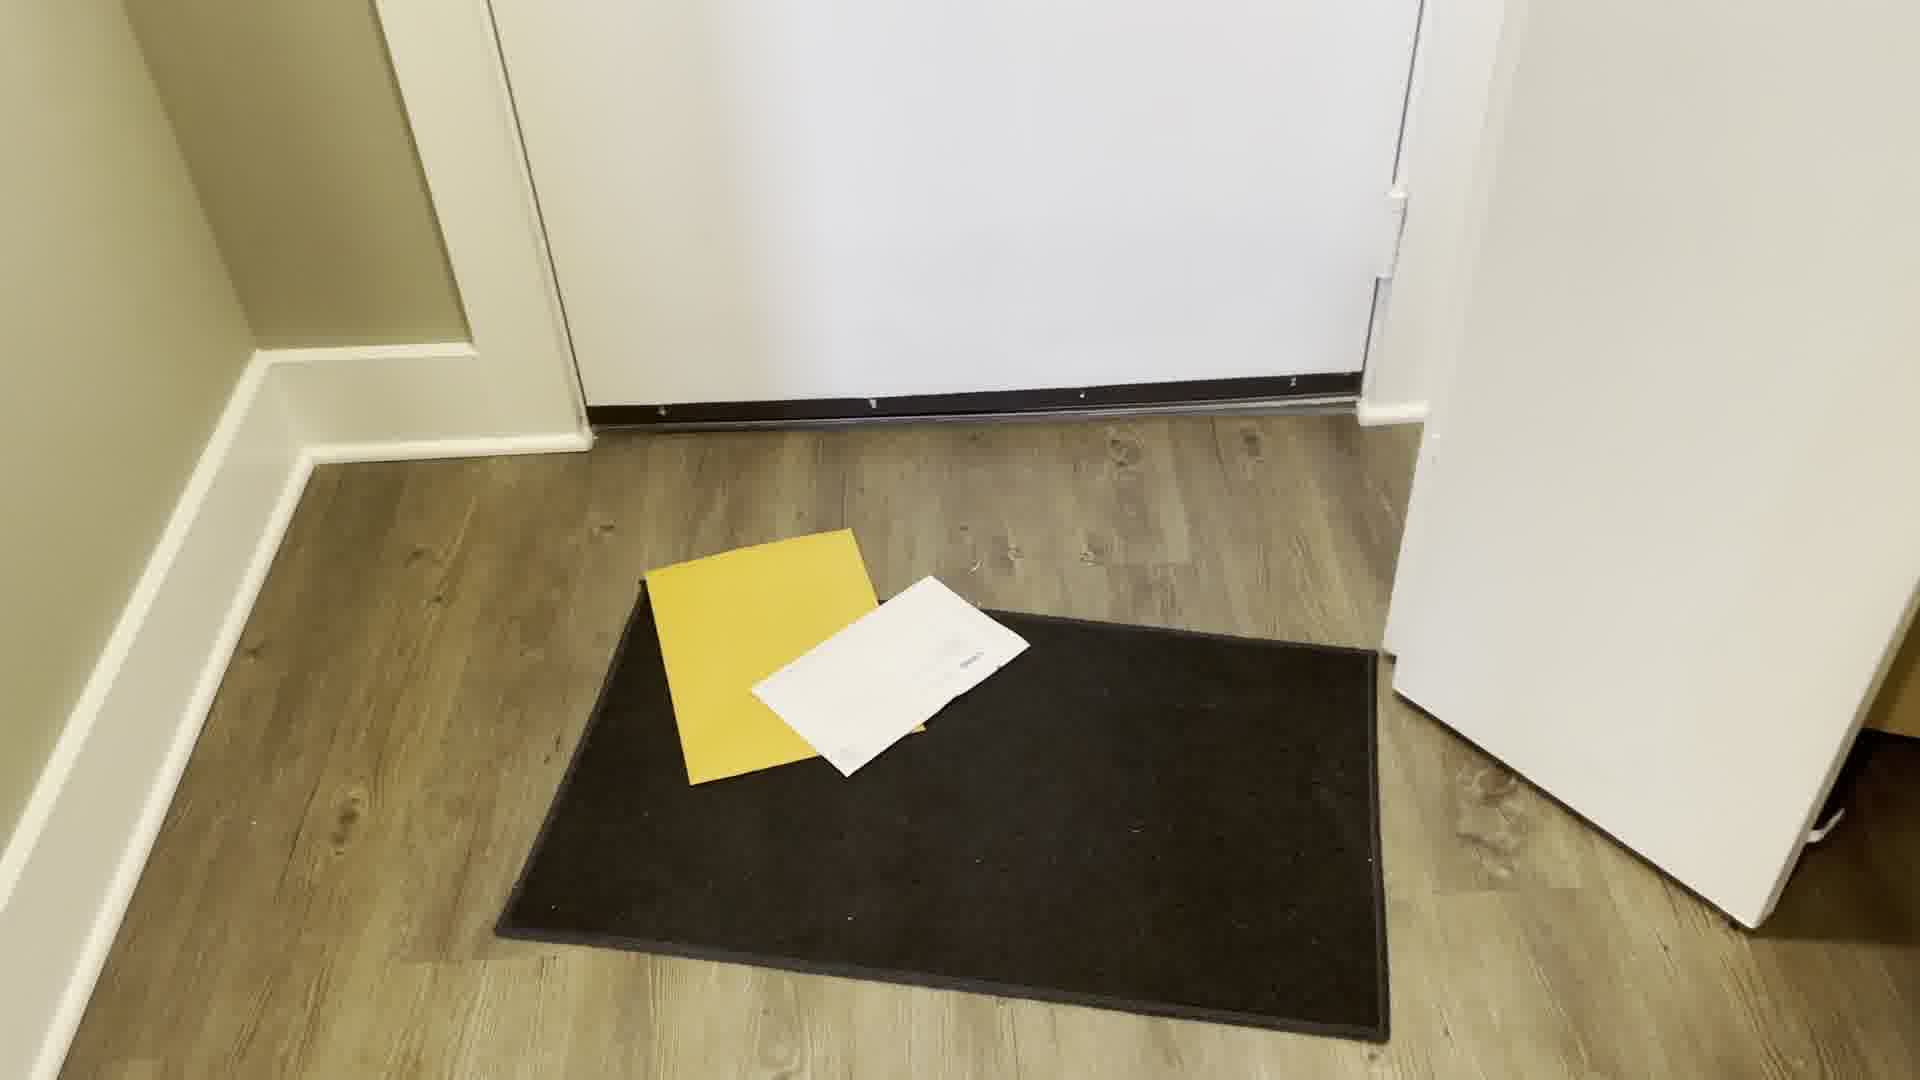envelope: (616, 522, 861, 787), (760, 572, 1025, 787)
